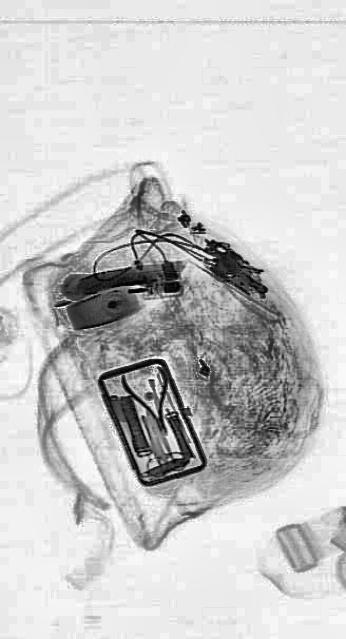Pliers: (120, 347, 178, 453)
